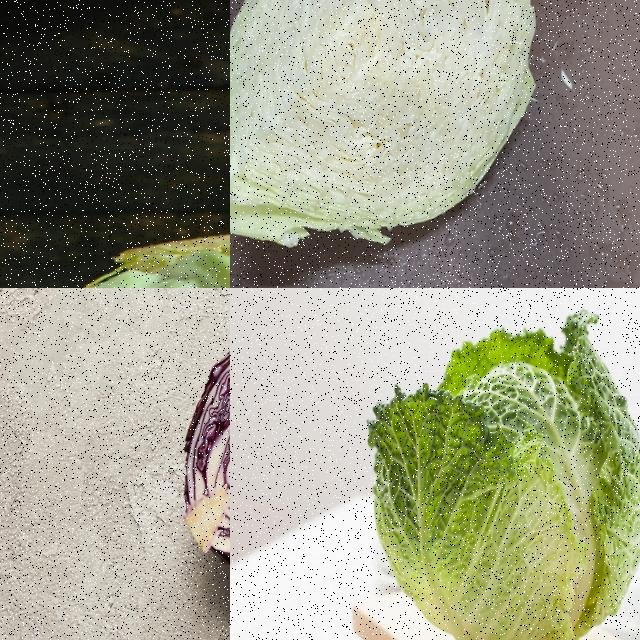cabbage: (361, 304, 639, 639), (230, 0, 538, 257), (180, 320, 229, 574)
